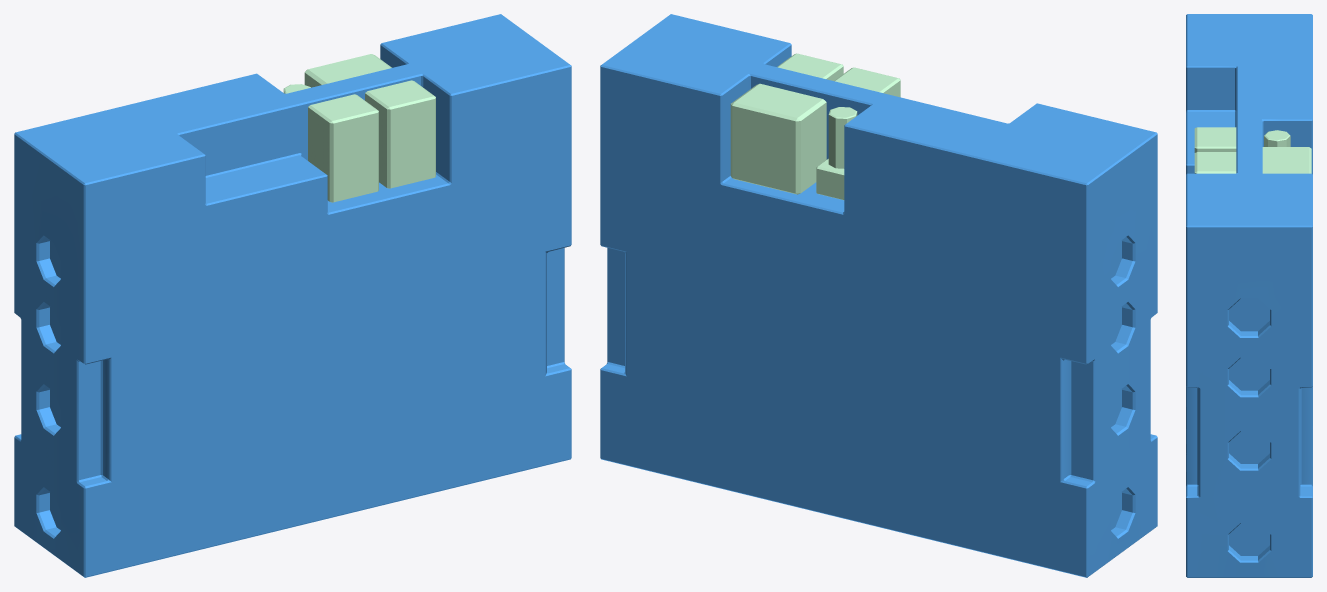
Rendered from tail.obj.
3 renders of one model, left to right at view 1: azimuth 30°, elevation 25°; view 2: azimuth 150°, elevation 25°; view 3: azimuth 270°, elevation 25°, orthographic. The views are drawn at different scales.
Parts seen in each view (by area): view 1: polySurface1 group8, group8 pCube11; view 2: polySurface1 group8, group8 pCube11; view 3: polySurface1 group8, group8 pCube11.
Part boxes in pixels (x1=…): polySurface1 group8: x1=14, y1=14, x2=571, y2=577; group8 pCube11: x1=283, y1=54, x2=435, y2=202; polySurface1 group8: x1=600, y1=14, x2=1157, y2=577; group8 pCube11: x1=730, y1=53, x2=900, y2=200; polySurface1 group8: x1=1186, y1=14, x2=1312, y2=577; group8 pCube11: x1=1194, y1=127, x2=1311, y2=173.
Size of the model in its own units: 2.69 by 2.08 by 0.6778.
2 materials, 2 textured.
